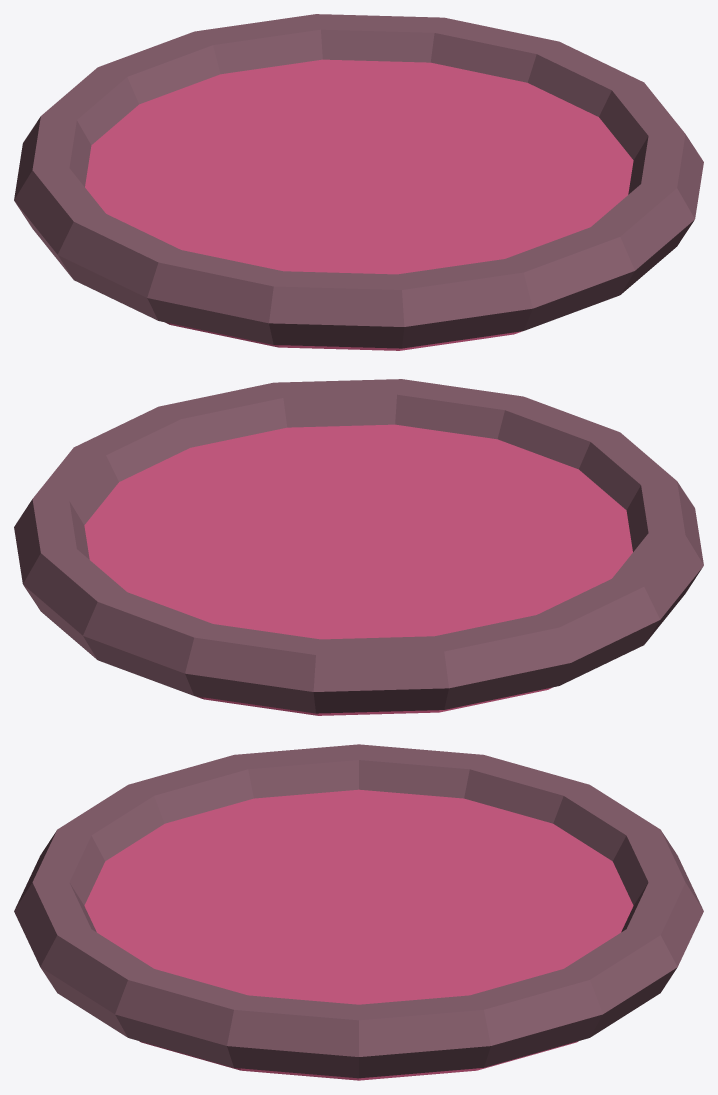
The model's file is SH10_L05_BogPool.fbx.
3 views of the same model, one above another, from view 1: azimuth 30°, elevation 25°; view 2: azimuth 150°, elevation 25°; view 3: azimuth 270°, elevation 25° (orthographic).
Visible parts, largest first — view 1: SH10_L05_BogPool; view 2: SH10_L05_BogPool; view 3: SH10_L05_BogPool.
Boxes of the visible parts, bbox=[...] form: SH10_L05_BogPool: bbox=[14, 14, 703, 350]; SH10_L05_BogPool: bbox=[14, 379, 703, 715]; SH10_L05_BogPool: bbox=[14, 744, 703, 1080].
Size of the model in its own units: 224 by 24.39 by 224.
